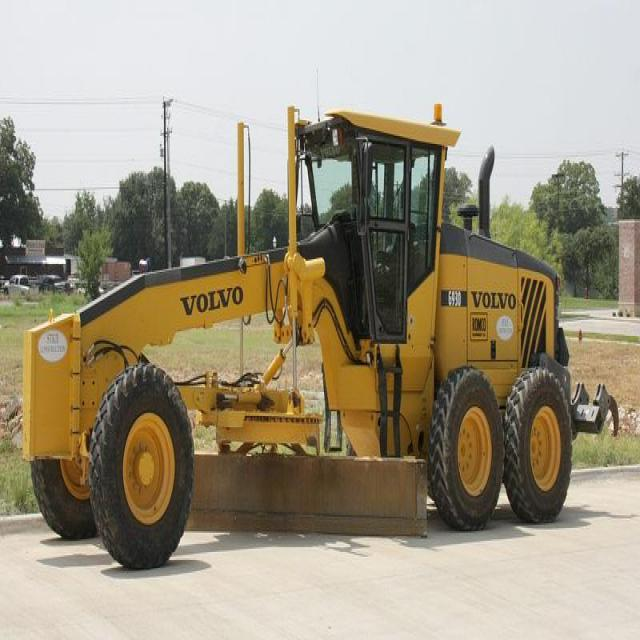Grader: (24, 90, 578, 570)
